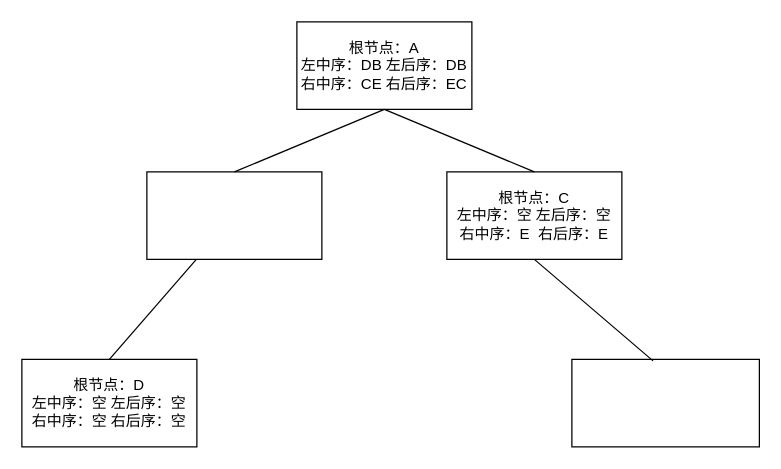
This 781x469 diagram has some shape labels left out. The shapes that lost their labels are listed below. From the top down, each one's centre as x and y in pixels, then its label:
At pixel 234 215: "根节点：B 左中序：D 左后序：D 右中序：空 右后序：空".
At pixel 665 402: "根节点：E 左中序：空 左后序：空 右中序：空 右后序：空".
